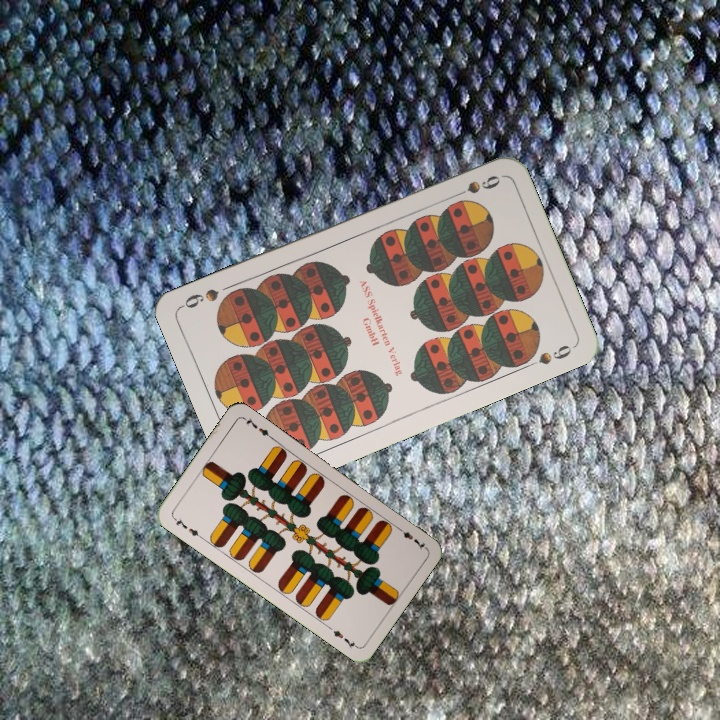E7: (393, 523, 429, 553), (169, 513, 205, 541)
S9: (446, 171, 503, 202)
